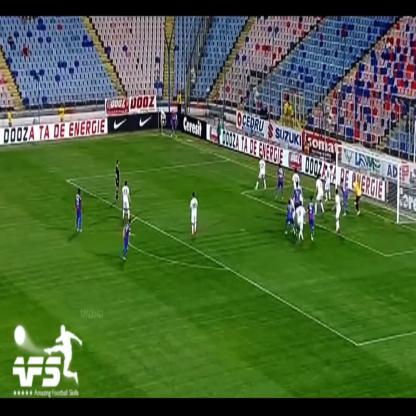corner kick: (134, 62, 195, 174)
